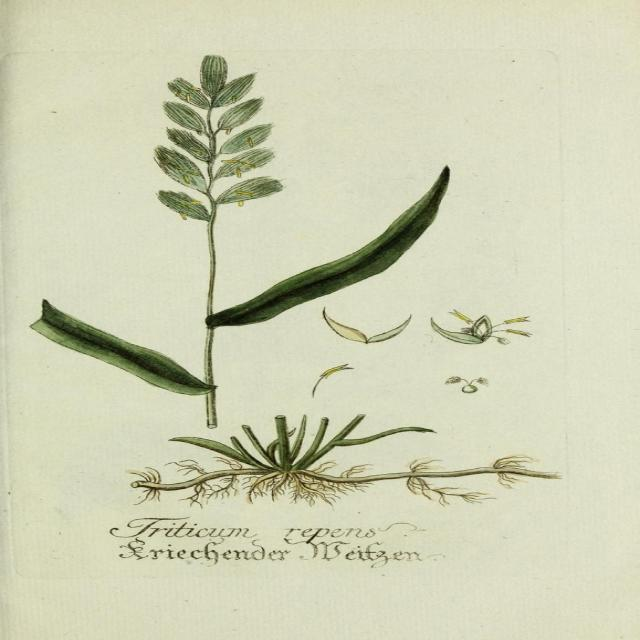Zucchini: (193, 172, 466, 337)
